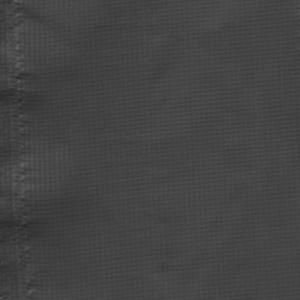Wrinkle: (10, 1, 122, 240)
